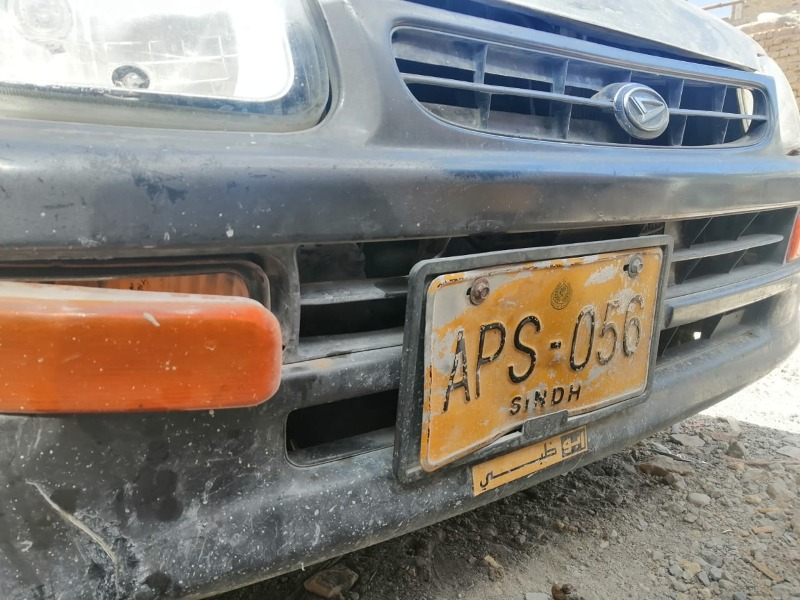License Plate: (411, 258, 666, 465)
